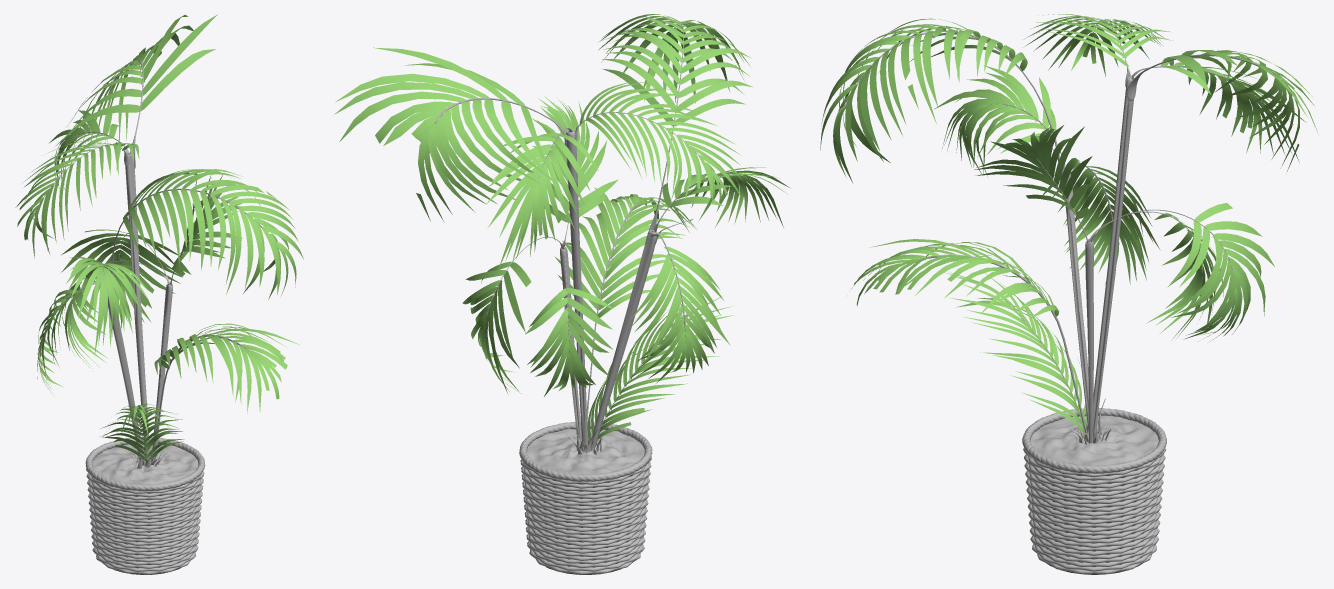
Rendered from plant03_aged.fbx.
The picture shows the model from 3 angles, left to right: view 1: azimuth 30°, elevation 25°; view 2: azimuth 150°, elevation 25°; view 3: azimuth 270°, elevation 25°; orthographic projection. The views are drawn at different scales.
Visible parts, largest first — view 1: leaf, pot, dirt, stalk 1, pot head, stalk, stalk 3, stalk 2, pot inside; view 2: leaf, pot, dirt, stalk 3, pot head, stalk, stalk 1, stalk 2; view 3: leaf, pot, dirt, stalk 1, stalk, pot head, stalk 3, stalk 2.
Part boxes in pixels (box(x1,y1,x2,y2)): leaf: box(15, 14, 303, 460); pot: box(86, 450, 204, 574); dirt: box(92, 444, 198, 484); stalk 1: box(125, 153, 149, 462); pot head: box(85, 437, 205, 491); stalk: box(34, 59, 263, 463); stalk 3: box(108, 296, 144, 464); stalk 2: box(152, 283, 172, 460); pot inside: box(97, 482, 191, 568); leaf: box(334, 14, 789, 440); pot: box(520, 429, 651, 574); dirt: box(527, 429, 644, 474); stalk 3: box(591, 230, 657, 450); pot head: box(519, 421, 652, 481); stalk: box(434, 22, 723, 434); stalk 1: box(566, 129, 587, 447); stalk 2: box(560, 247, 581, 446); leaf: box(820, 14, 1317, 434); pot: box(1023, 431, 1166, 574); dirt: box(1030, 415, 1158, 465); stalk 1: box(1093, 75, 1134, 435); stalk: box(843, 20, 1272, 441); pot head: box(1022, 408, 1166, 473); stalk 3: box(1063, 168, 1088, 435); stalk 2: box(1085, 239, 1093, 443).
Bounding box in the file's own units: 37.85 × 63.24 × 50.89.
